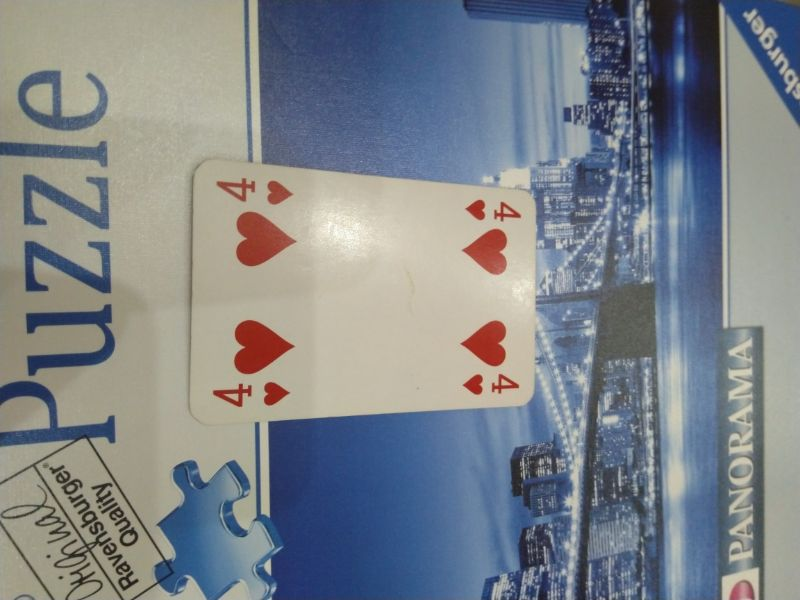4h: (209, 175, 295, 208), (209, 377, 293, 409), (461, 368, 525, 399), (461, 195, 524, 224)
